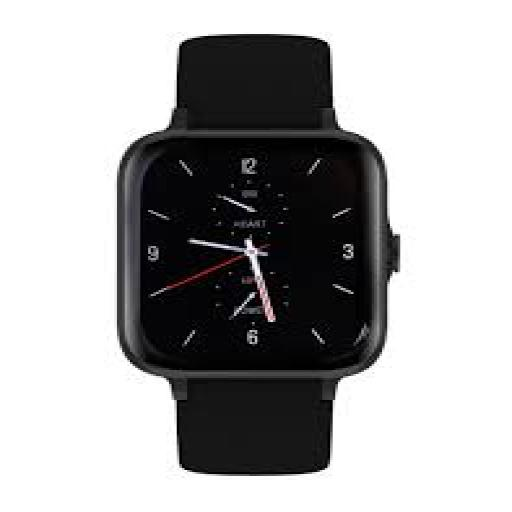KolSaati: (80, 14, 433, 479)
